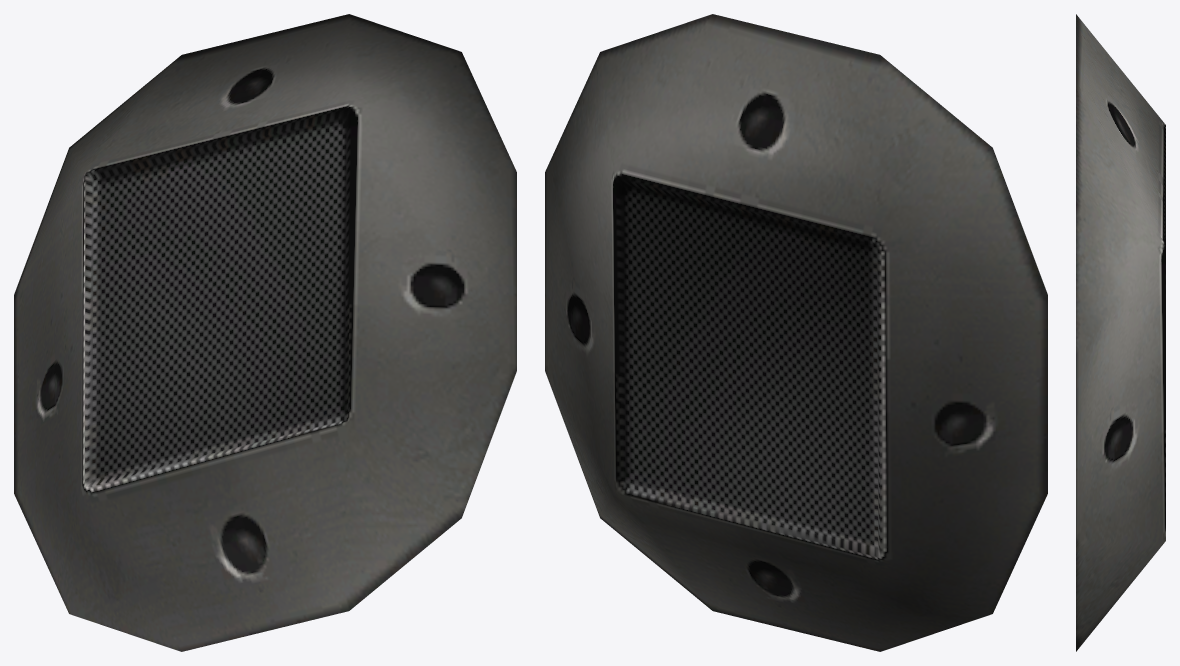
The model's file is lichtschalter.glb.
The picture shows the model from 3 angles, left to right: view 1: azimuth 30°, elevation 25°; view 2: azimuth 150°, elevation 25°; view 3: azimuth 270°, elevation 25°; orthographic projection. The views are drawn at different scales.
Visible parts, largest first — view 1: Plane01; view 2: Plane01; view 3: Plane01.
Part boxes in pixels (bbox=[...]): Plane01: bbox=[14, 14, 516, 651]; Plane01: bbox=[545, 14, 1047, 651]; Plane01: bbox=[1076, 14, 1165, 651].
Size of the model in its own units: 8.22 by 9.33 by 1.35.
Materials: 1 (1 with a texture image).
